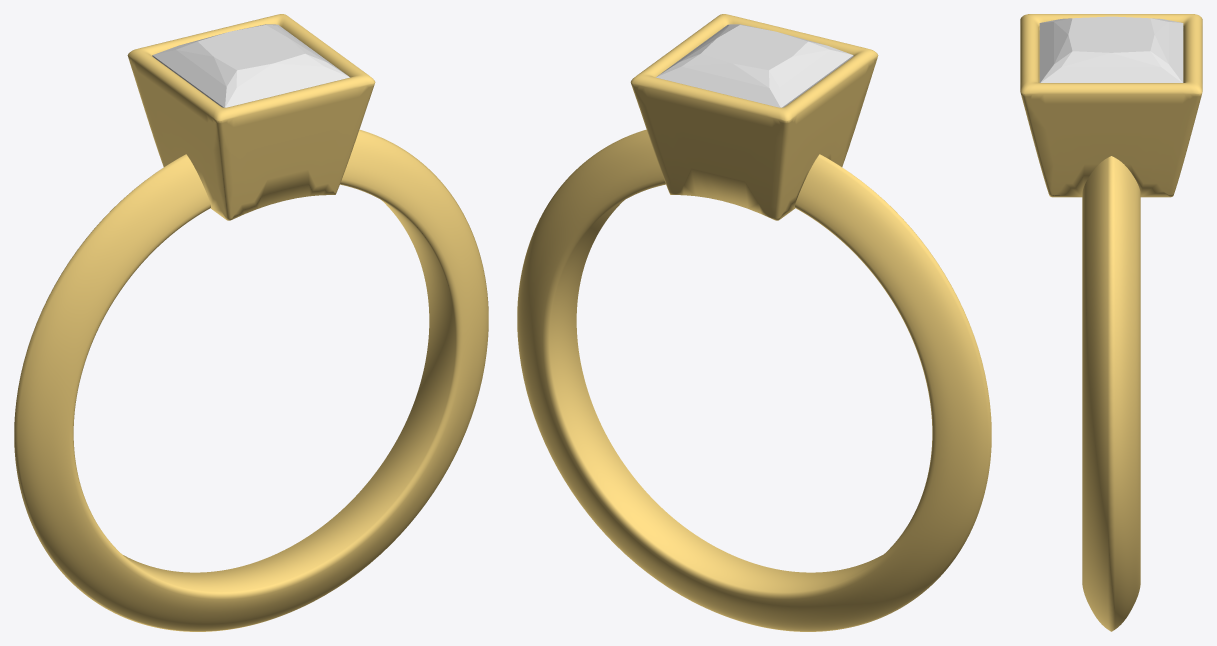
Rendered from diamond-princess-yellowgold-bezelset-knifeedge-solitaire.glb.
3 views of the same model, side by side, from view 1: azimuth 30°, elevation 25°; view 2: azimuth 150°, elevation 25°; view 3: azimuth 270°, elevation 25° (orthographic).
Visible parts, largest first — view 1: metal, stone; view 2: metal, stone; view 3: metal, stone.
Part boxes in pixels (x1,y1,x2,y2): metal: [14, 14, 488, 631]; stone: [152, 24, 349, 107]; metal: [517, 14, 991, 631]; stone: [656, 24, 853, 107]; metal: [1020, 14, 1202, 631]; stone: [1039, 16, 1183, 82].
Size of the model in its own units: 20.5 by 23.85 by 6.89.
